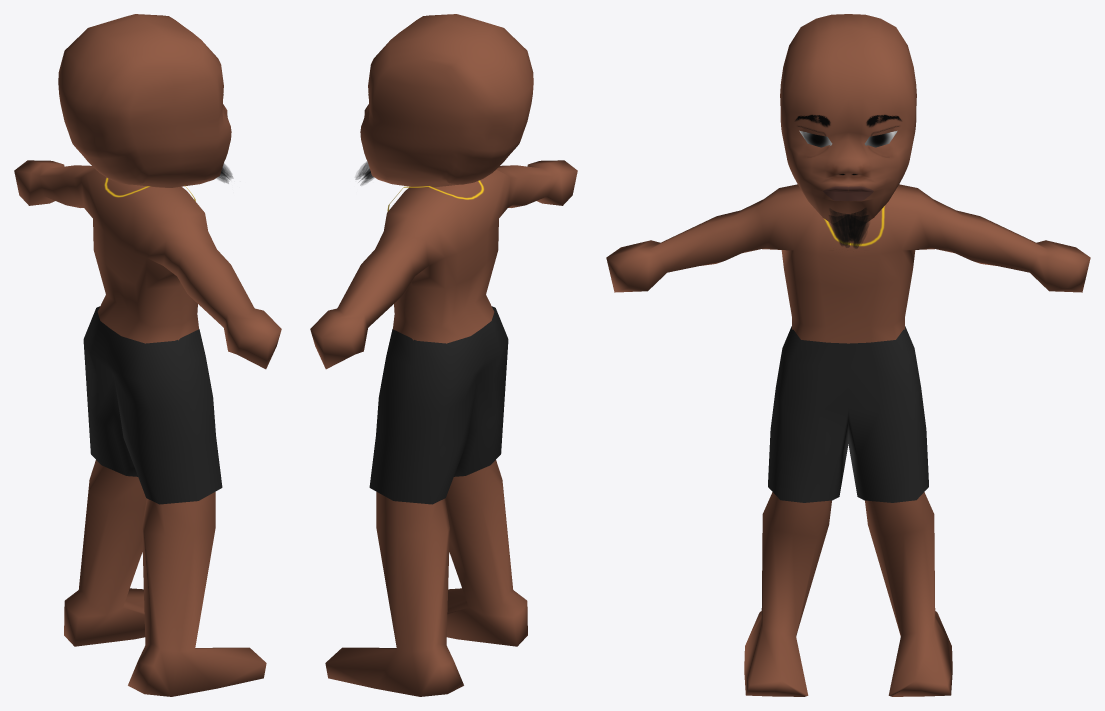
The model's file is malik.glb.
3 renders of one model, left to right at view 1: azimuth 30°, elevation 25°; view 2: azimuth 150°, elevation 25°; view 3: azimuth 270°, elevation 25°, orthographic.
Visible parts, largest first — view 1: malik; view 2: malik; view 3: malik.
Part boxes in pixels (x1,y1,x2,y2): malik: (14,14,281,696); malik: (310,14,577,696); malik: (606,14,1090,696).
Bounding box in the file's own units: 2.64 × 9.46 × 6.5.
Materials: 5 (4 with a texture image).
